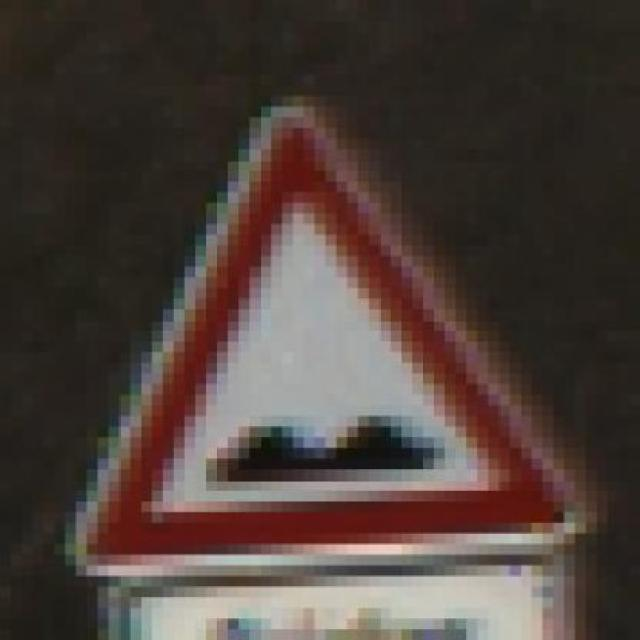Uneven Road: (43, 97, 597, 566)
